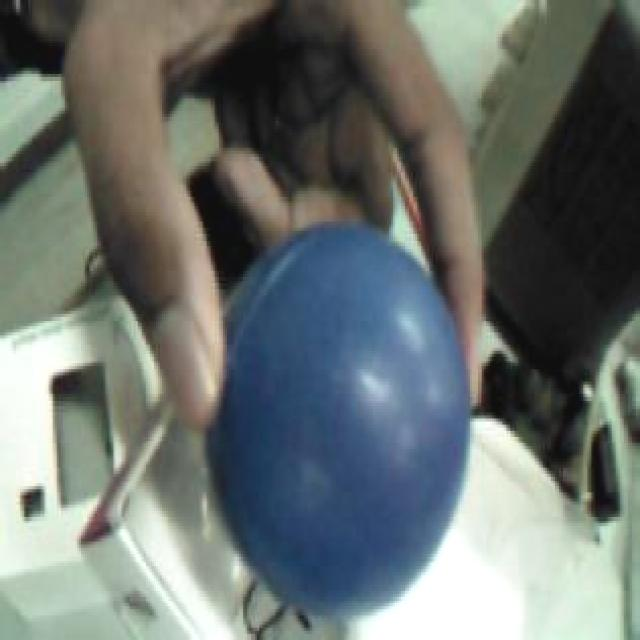BallPurple: (212, 225, 470, 612)
